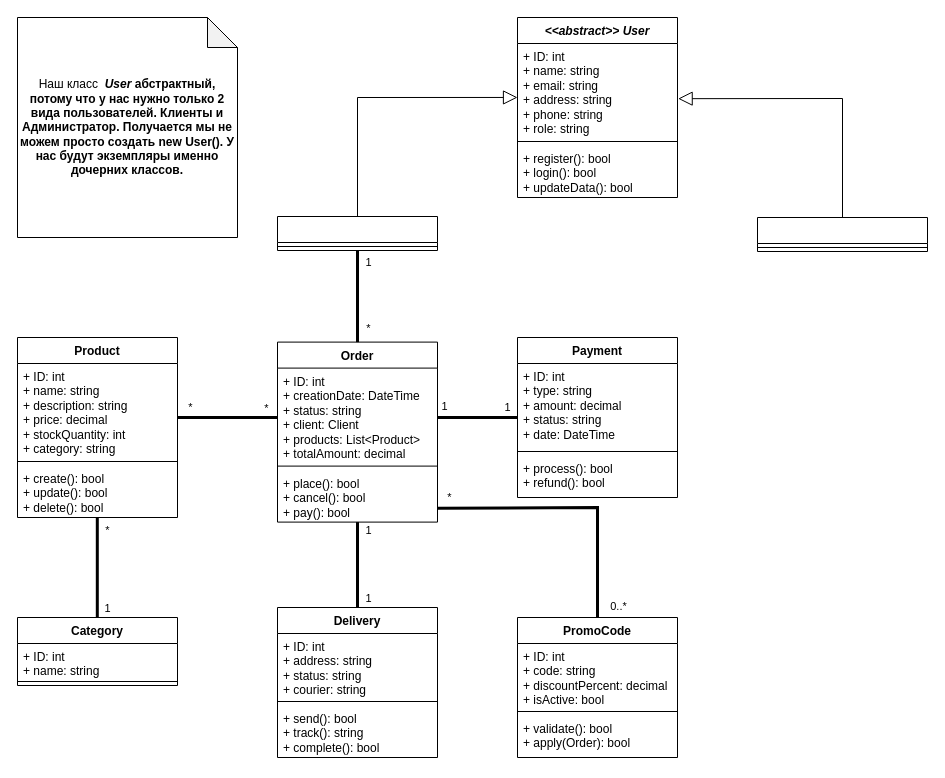
Some shapes in this 945 by 778 pixel diagram are drawn without their labels. The shapes that lost their labels are listed below. From the top down, each one's centre as x and y in pixels, then its label:
At (x=357, y=233): "Client".
At (x=842, y=234): "Administrator".
